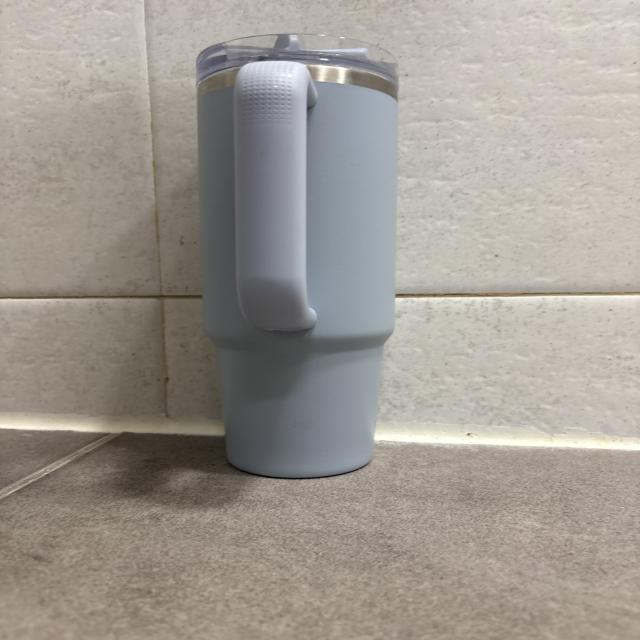waterbottle: (195, 33, 394, 479)
